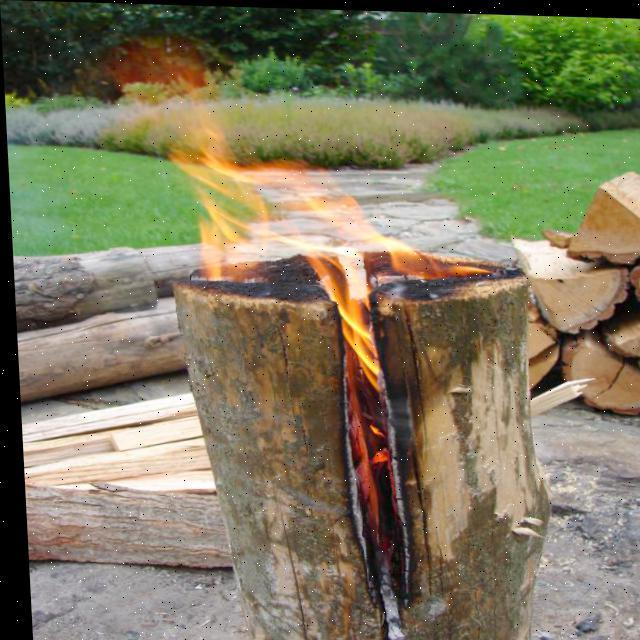Fire: (169, 72, 512, 564)
